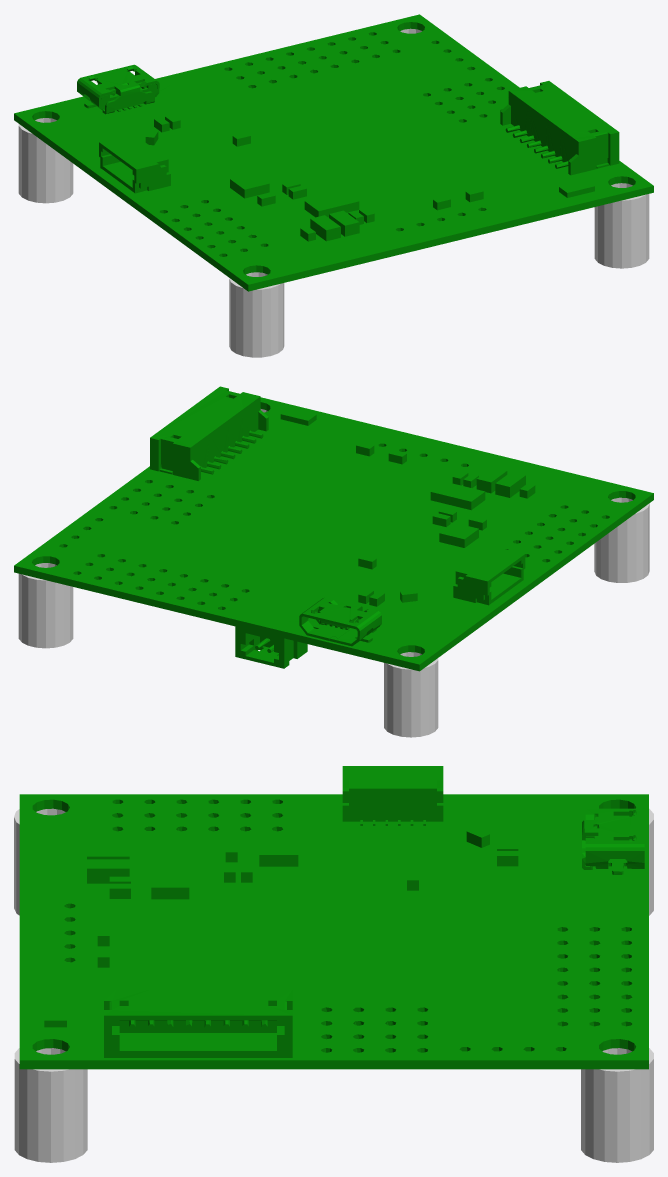
The picture shows the model from 3 angles, top to bottom: view 1: azimuth 30°, elevation 25°; view 2: azimuth 150°, elevation 25°; view 3: azimuth 270°, elevation 25°; orthographic projection. The views are drawn at different scales.
Parts seen in each view (by area): view 1: Green, White; view 2: Green, White; view 3: Green, White.
Boxes of the visible parts, x1=… form: Green: x1=14, y1=14, x2=653, y2=291; White: x1=18, y1=28, x2=649, y2=357; Green: x1=14, y1=386, x2=653, y2=671; White: x1=18, y1=409, x2=649, y2=737; Green: x1=19, y1=766, x2=648, y2=1069; White: x1=14, y1=808, x2=653, y2=1162.
Bounding box in the file's own units: 0.0509 × 0.0509 × 0.0125.
